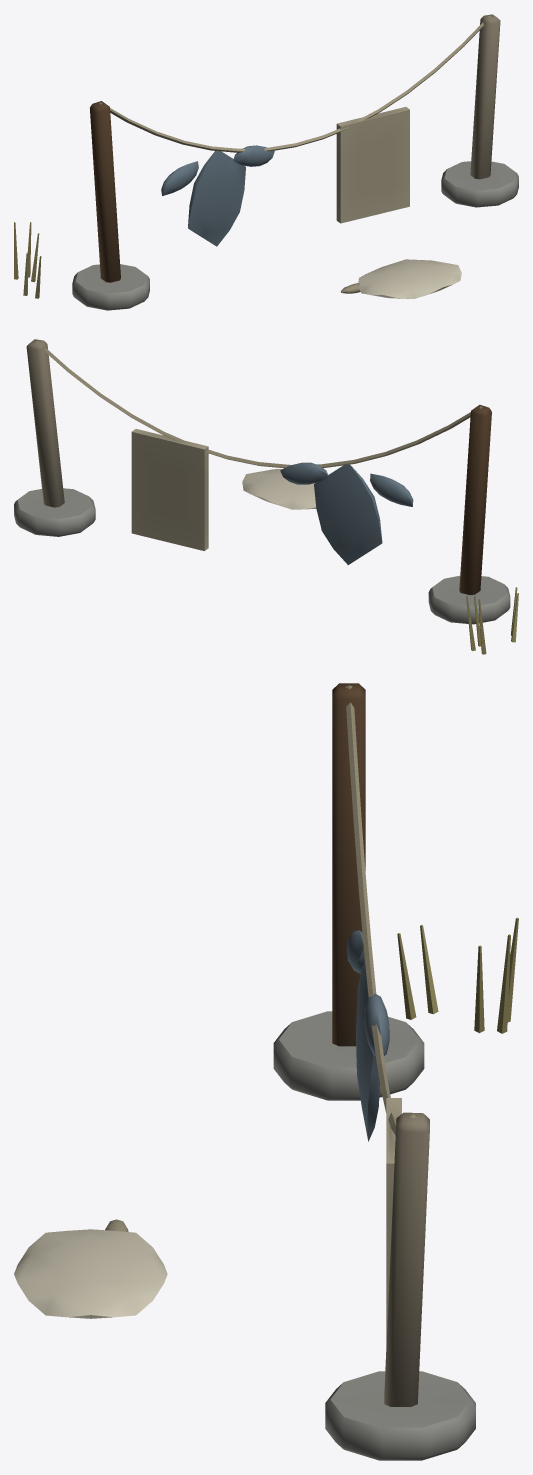
The model's file is laundry_line_b.glb.
The picture shows the model from 3 angles, top to bottom: view 1: azimuth 30°, elevation 25°; view 2: azimuth 150°, elevation 25°; view 3: azimuth 270°, elevation 25°; orthographic projection. The views are drawn at different scales.
Visible parts, largest first — view 1: Surface; view 2: Surface; view 3: Surface.
Part boxes in pixels (<box>): Surface: <box>14,14,518,310</box>; Surface: <box>14,339,518,654</box>; Surface: <box>14,683,518,1460</box>.
Bounding box in the file's own units: 6.23 × 2.42 × 2.93.
